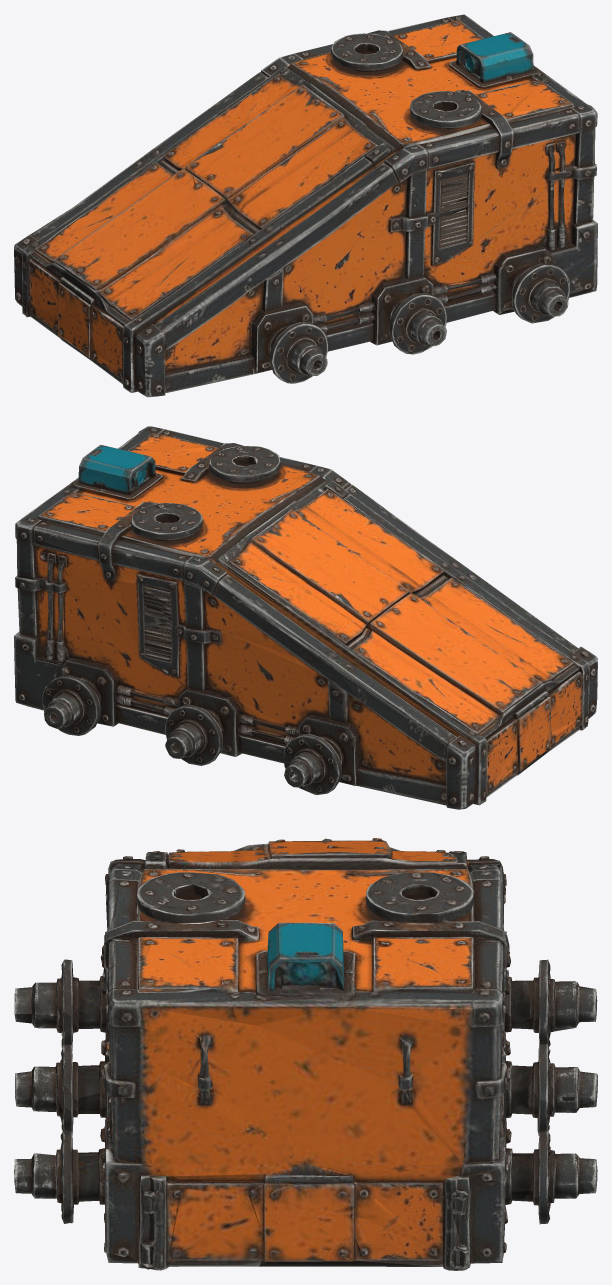
File: wedge.glb
The picture shows the model from 3 angles, top to bottom: view 1: azimuth 30°, elevation 25°; view 2: azimuth 150°, elevation 25°; view 3: azimuth 270°, elevation 25°; orthographic projection. The views are drawn at different scales.
Parts seen in each view (by area): view 1: Mesh_0; view 2: Mesh_0; view 3: Mesh_0.
Boxes of the visible parts, bbox=[...] form: Mesh_0: bbox=[14, 14, 597, 397]; Mesh_0: bbox=[14, 426, 597, 809]; Mesh_0: bbox=[14, 838, 597, 1270].
Bounding box in the file's own units: 1.17 × 0.5 × 0.8655.
1 material, 1 textured.
